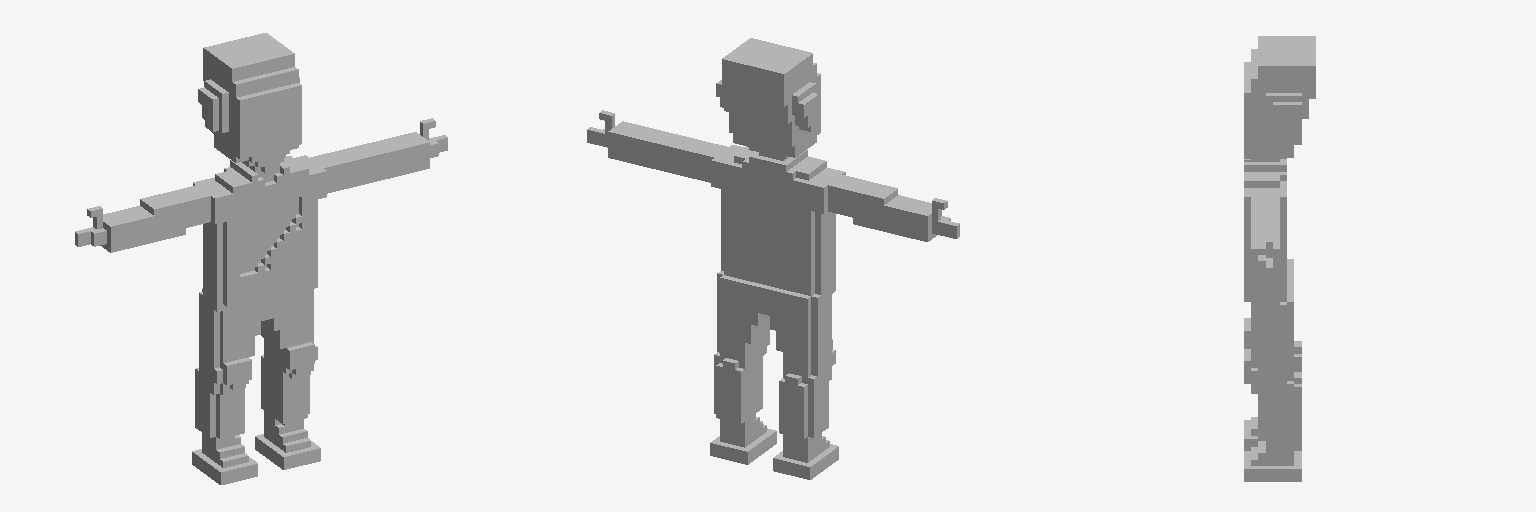
The model's file is pl 2 anim 1_1.obj.
3 views of the same model, side by side, from view 1: azimuth 30°, elevation 25°; view 2: azimuth 150°, elevation 25°; view 3: azimuth 270°, elevation 25° (orthographic).
Visible parts, largest first — view 1: object 1; view 2: object 1; view 3: object 1.
Boxes of the visible parts, <box> form: object 1: <box>75,33,447,484</box>; object 1: <box>587,38,959,479</box>; object 1: <box>1244,36,1315,481</box>.
Bounding box in the file's own units: 5.9 × 6.2 × 1.